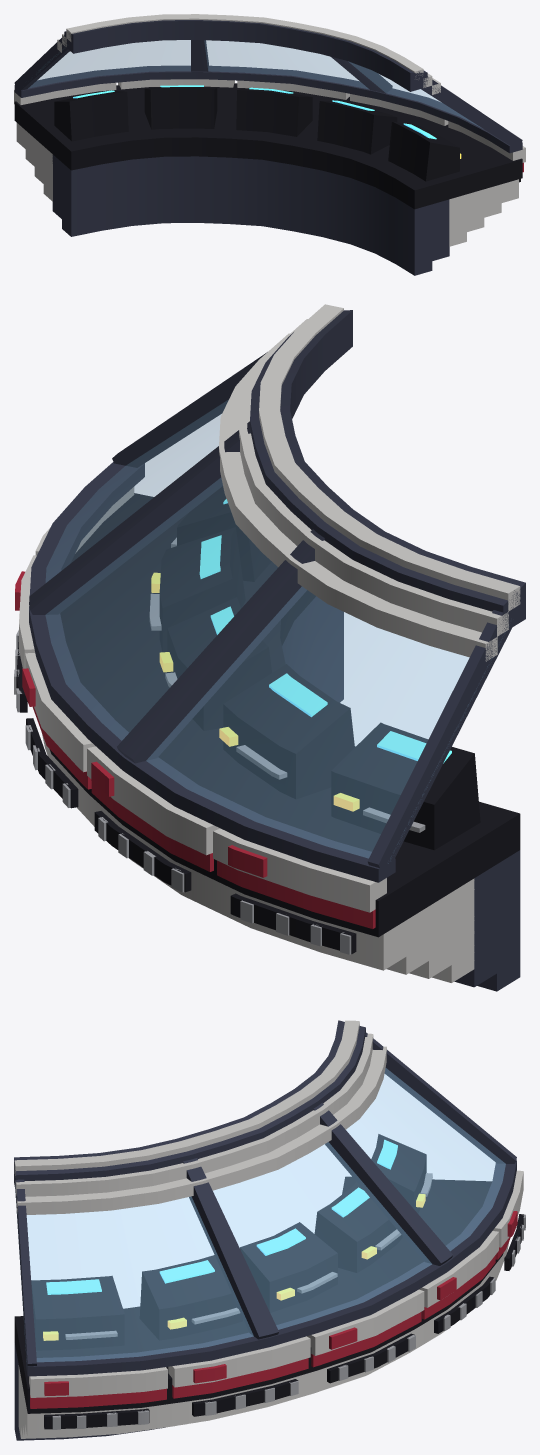
File: canopy.arc3.deck.glb
3 views of the same model, one above another, from view 1: azimuth 30°, elevation 25°; view 2: azimuth 150°, elevation 25°; view 3: azimuth 270°, elevation 25° (orthographic). The views are drawn at different scales.
Visible parts, largest first — view 1: canopy.arc3.deck; view 2: canopy.arc3.deck; view 3: canopy.arc3.deck.
Part boxes in pixels (x1,y1,x2,y2): canopy.arc3.deck: (14,14,525,275); canopy.arc3.deck: (14,304,525,991); canopy.arc3.deck: (14,1020,525,1440).
Size of the model in its own units: 4.65 by 2.69 by 4.64.
